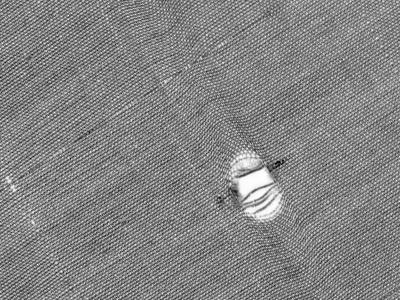hole: (228, 149, 285, 227)
